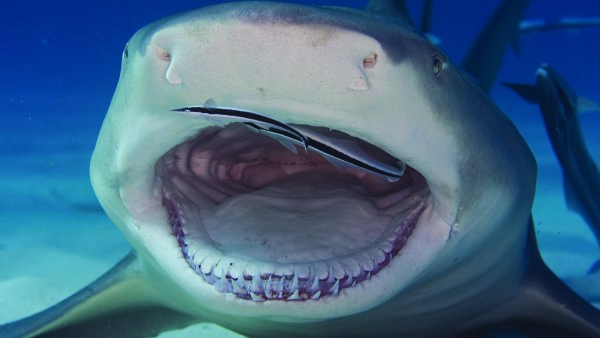shark: (20, 3, 559, 338)
